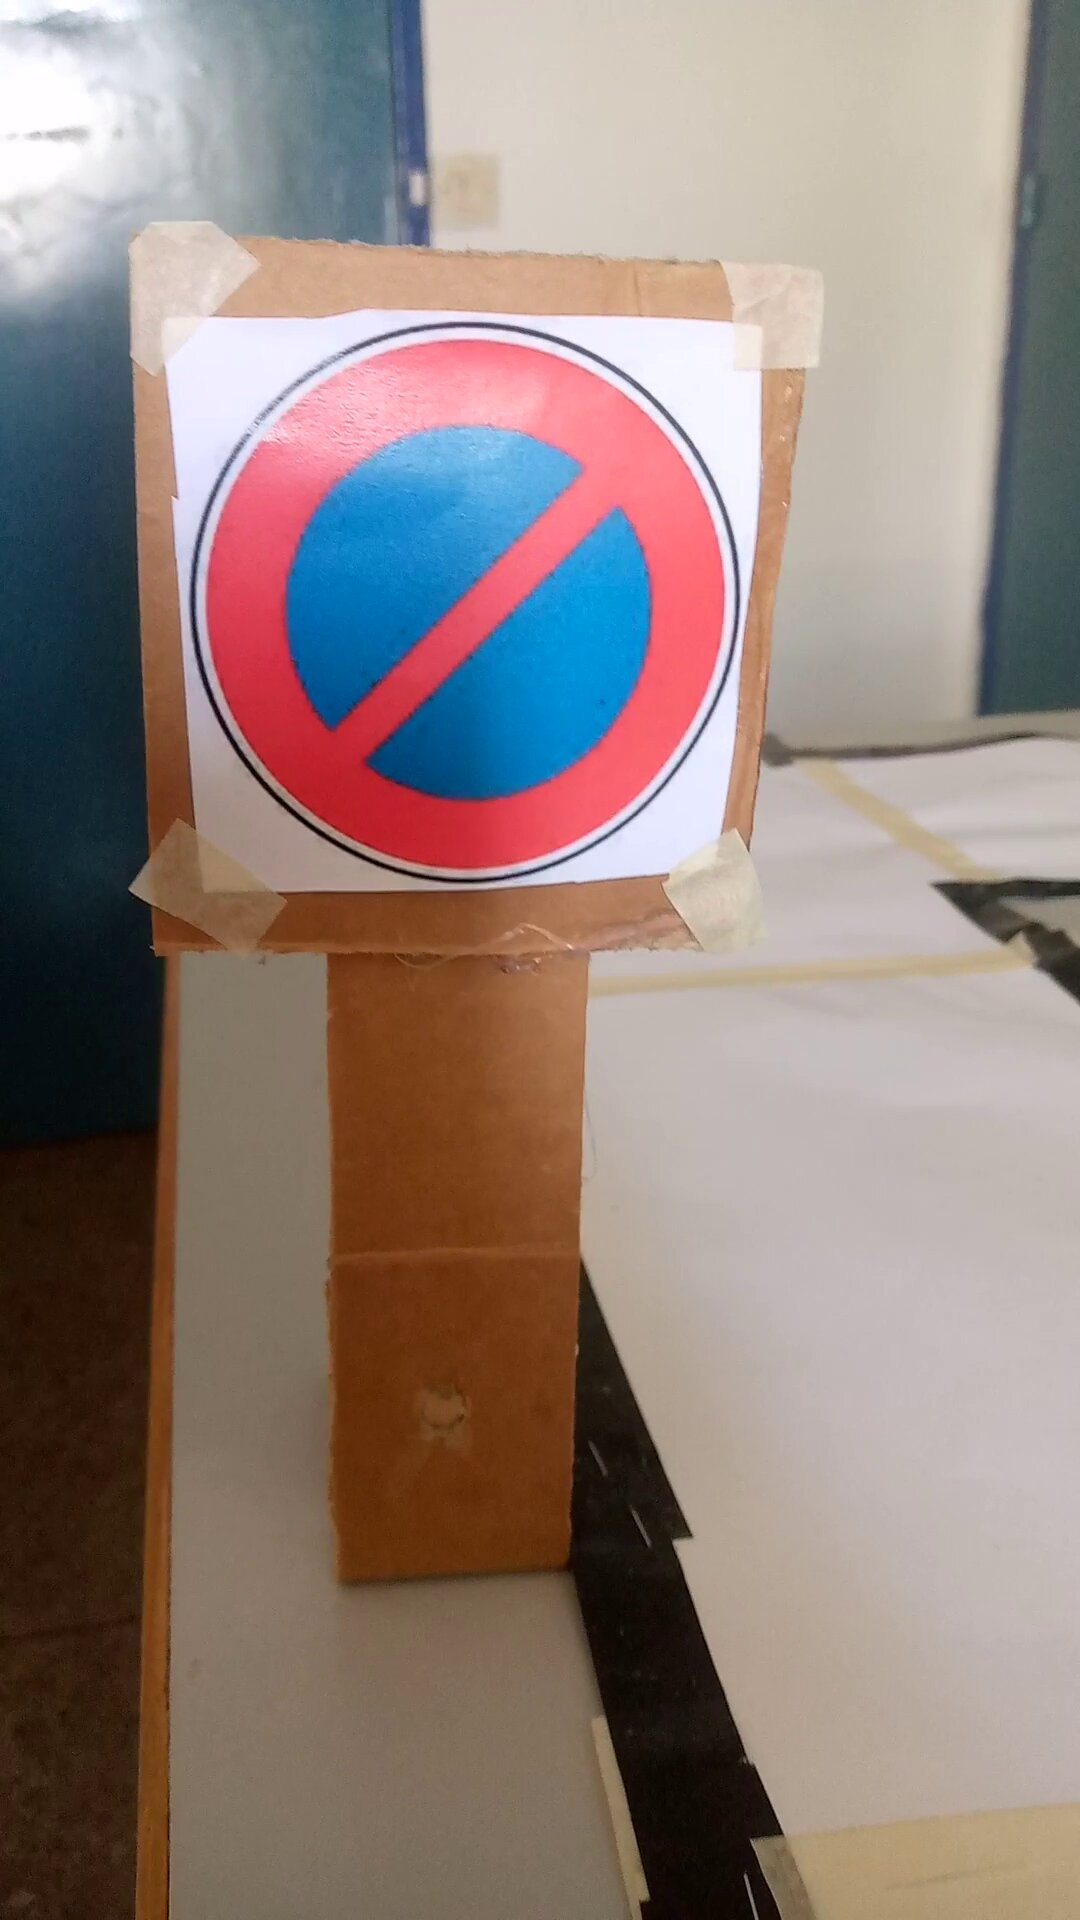panel110: (146, 306, 733, 894)
